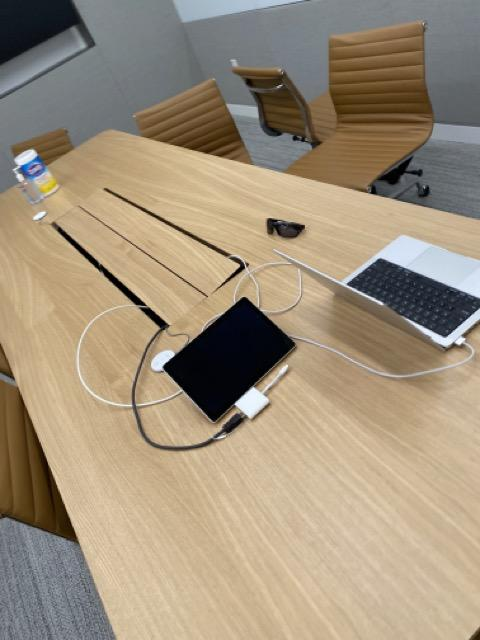Sunglasses: (264, 217, 306, 240)
